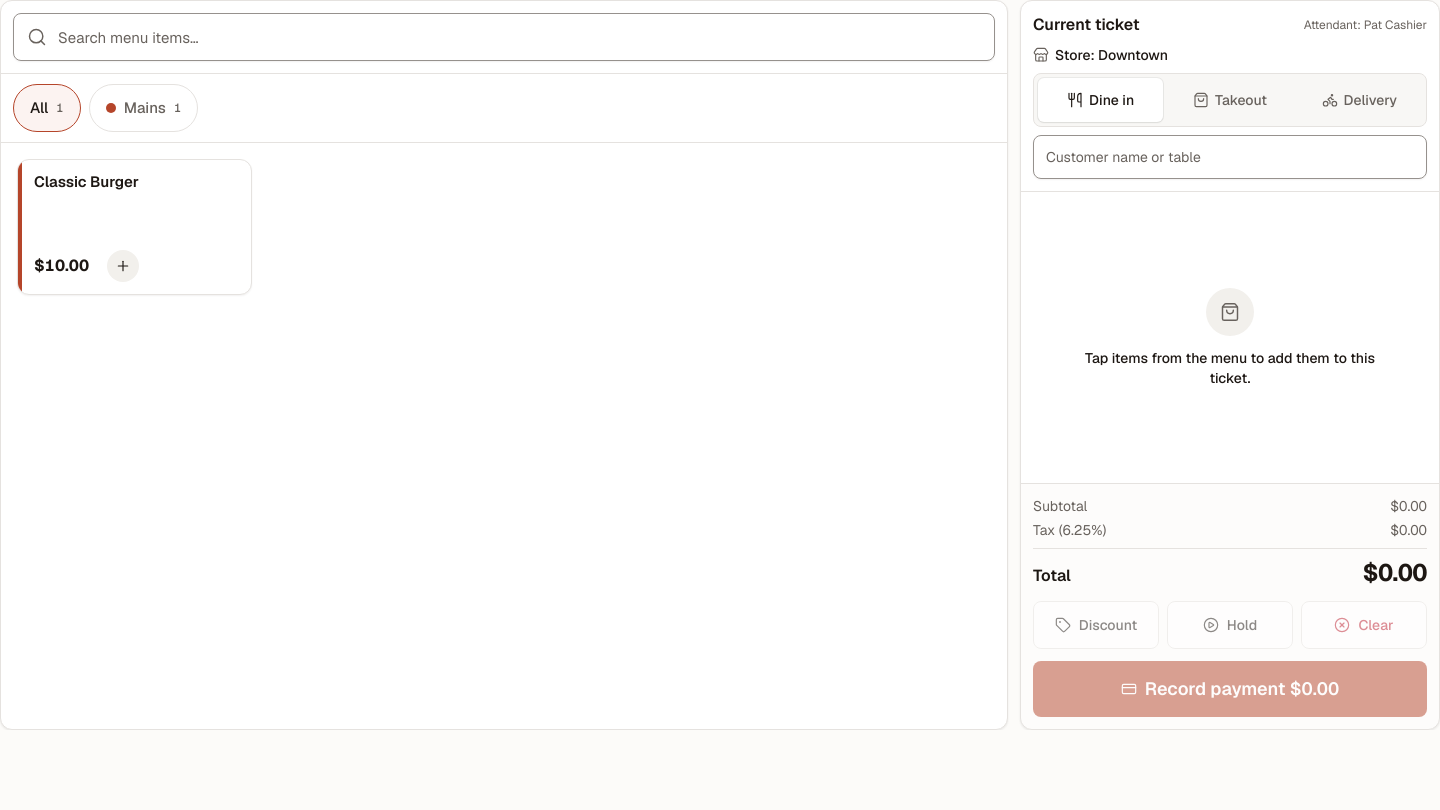
Test: POS sale outbox › payment copy: Dinequora records payments, it does not charge cards
Click the button with aria-label "Add Classic Burger," at [134, 227], box [17, 159, 252, 295]
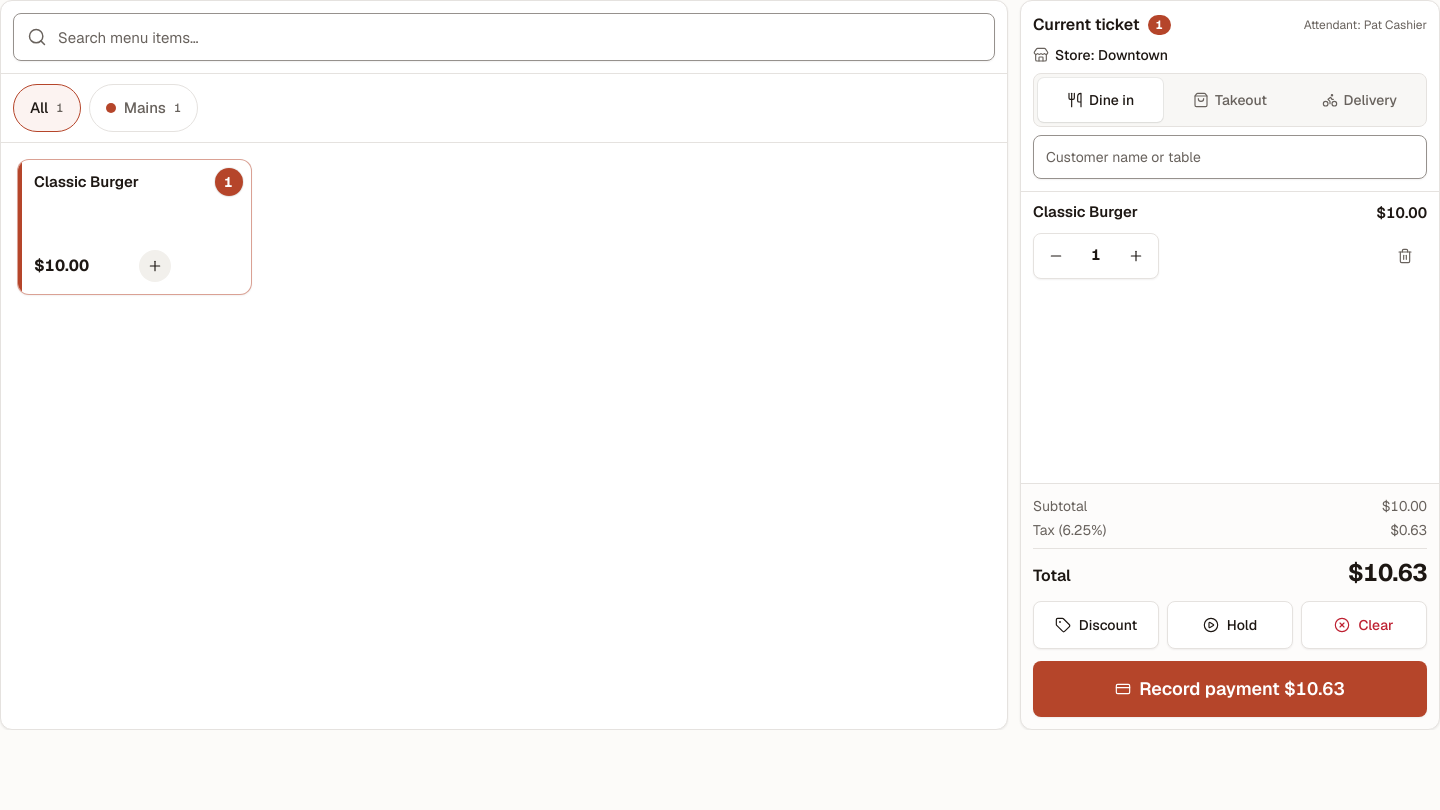
Click the button "Record payment $10.63" at [1230, 689], box [1033, 661, 1427, 717]
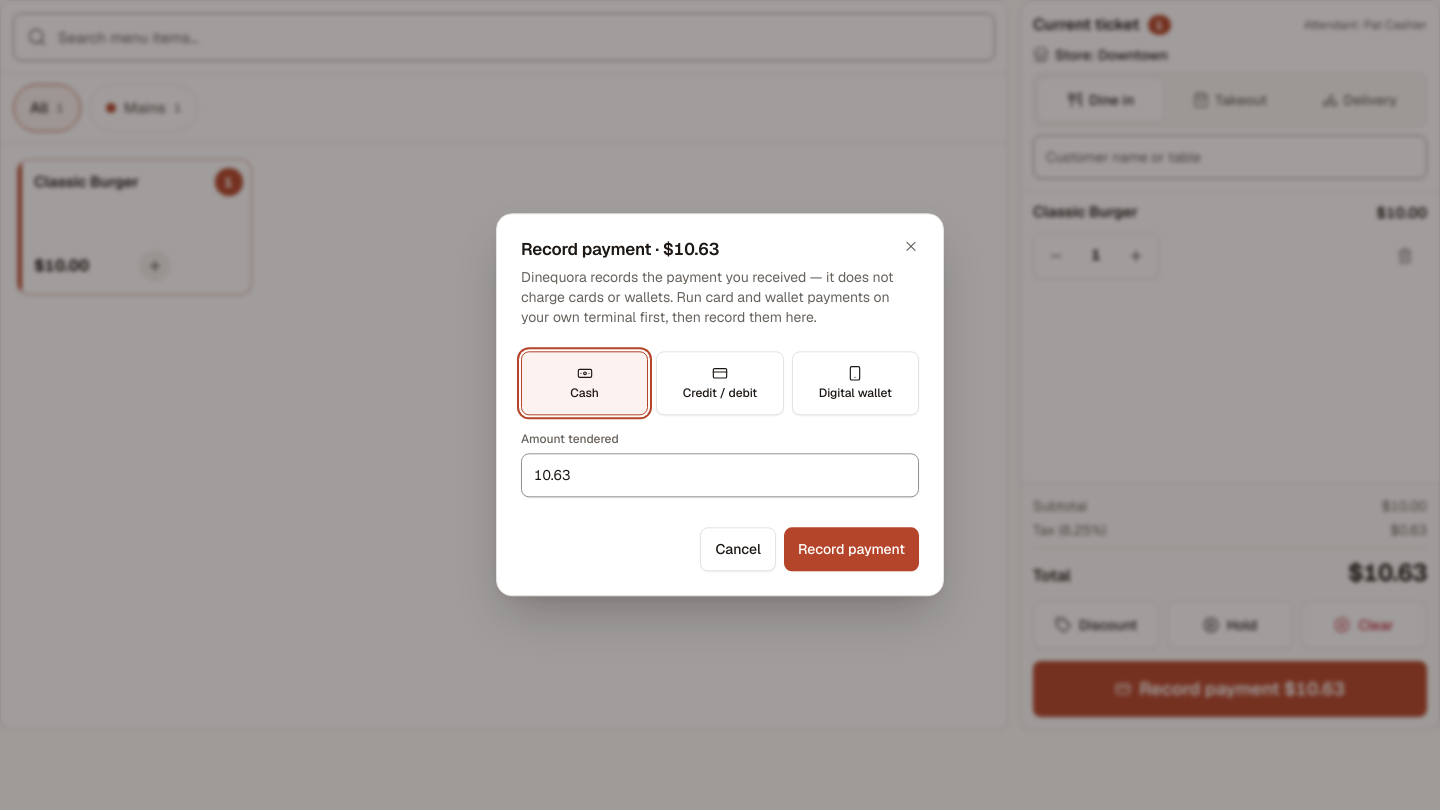
Now the dialog "Record payment ·" shows "it does not charge cards or wallets", box [521, 269, 894, 327]
